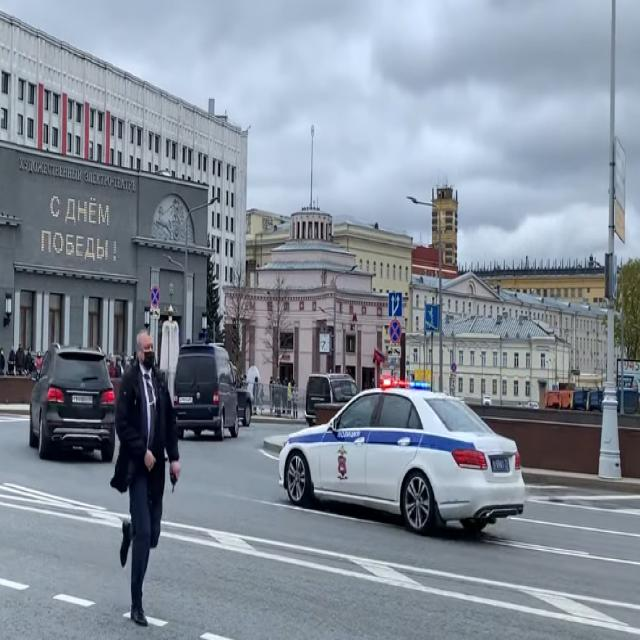non emergency car: (27, 341, 118, 467), (169, 338, 242, 444), (306, 371, 360, 428)
police car: (277, 376, 527, 541)
